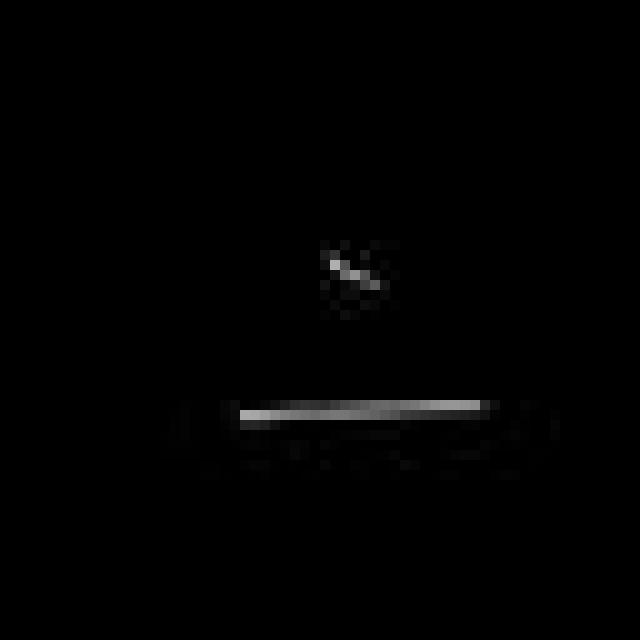2 -two-: (220, 238, 500, 450)
